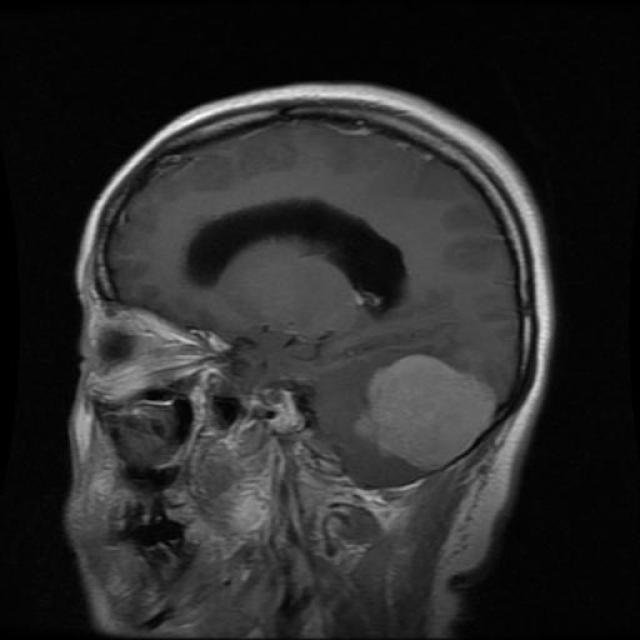meningioma: (361, 356, 500, 471)
